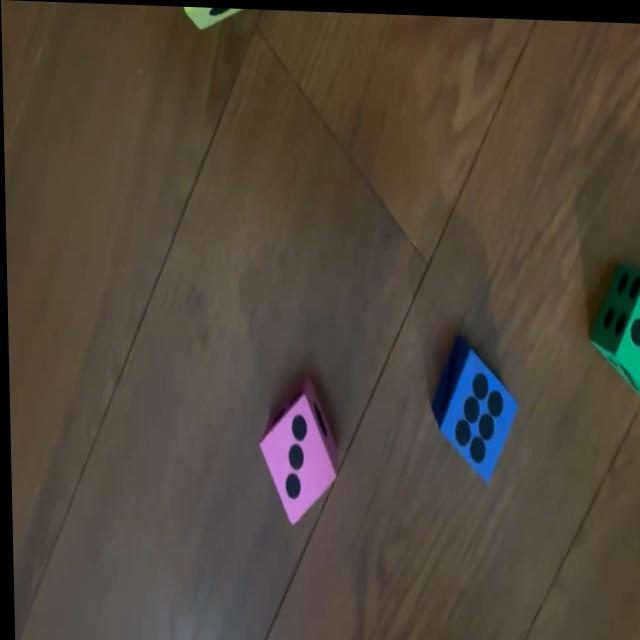blue_block: (428, 334, 516, 480)
